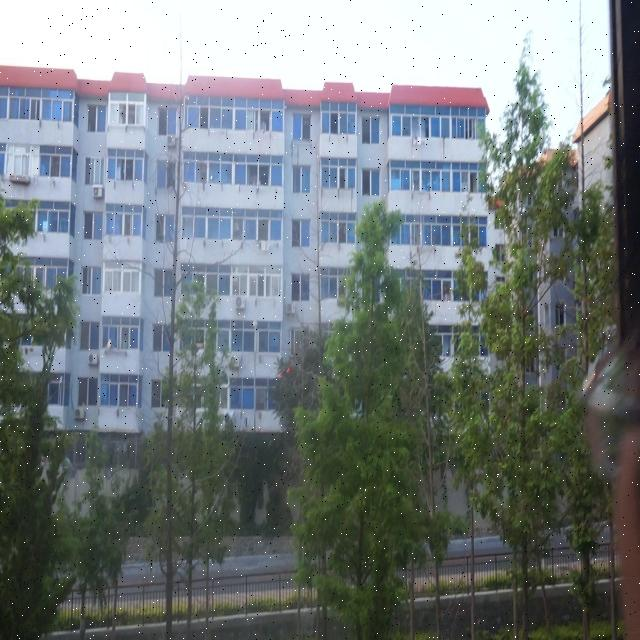UAV: (277, 364, 292, 376)
